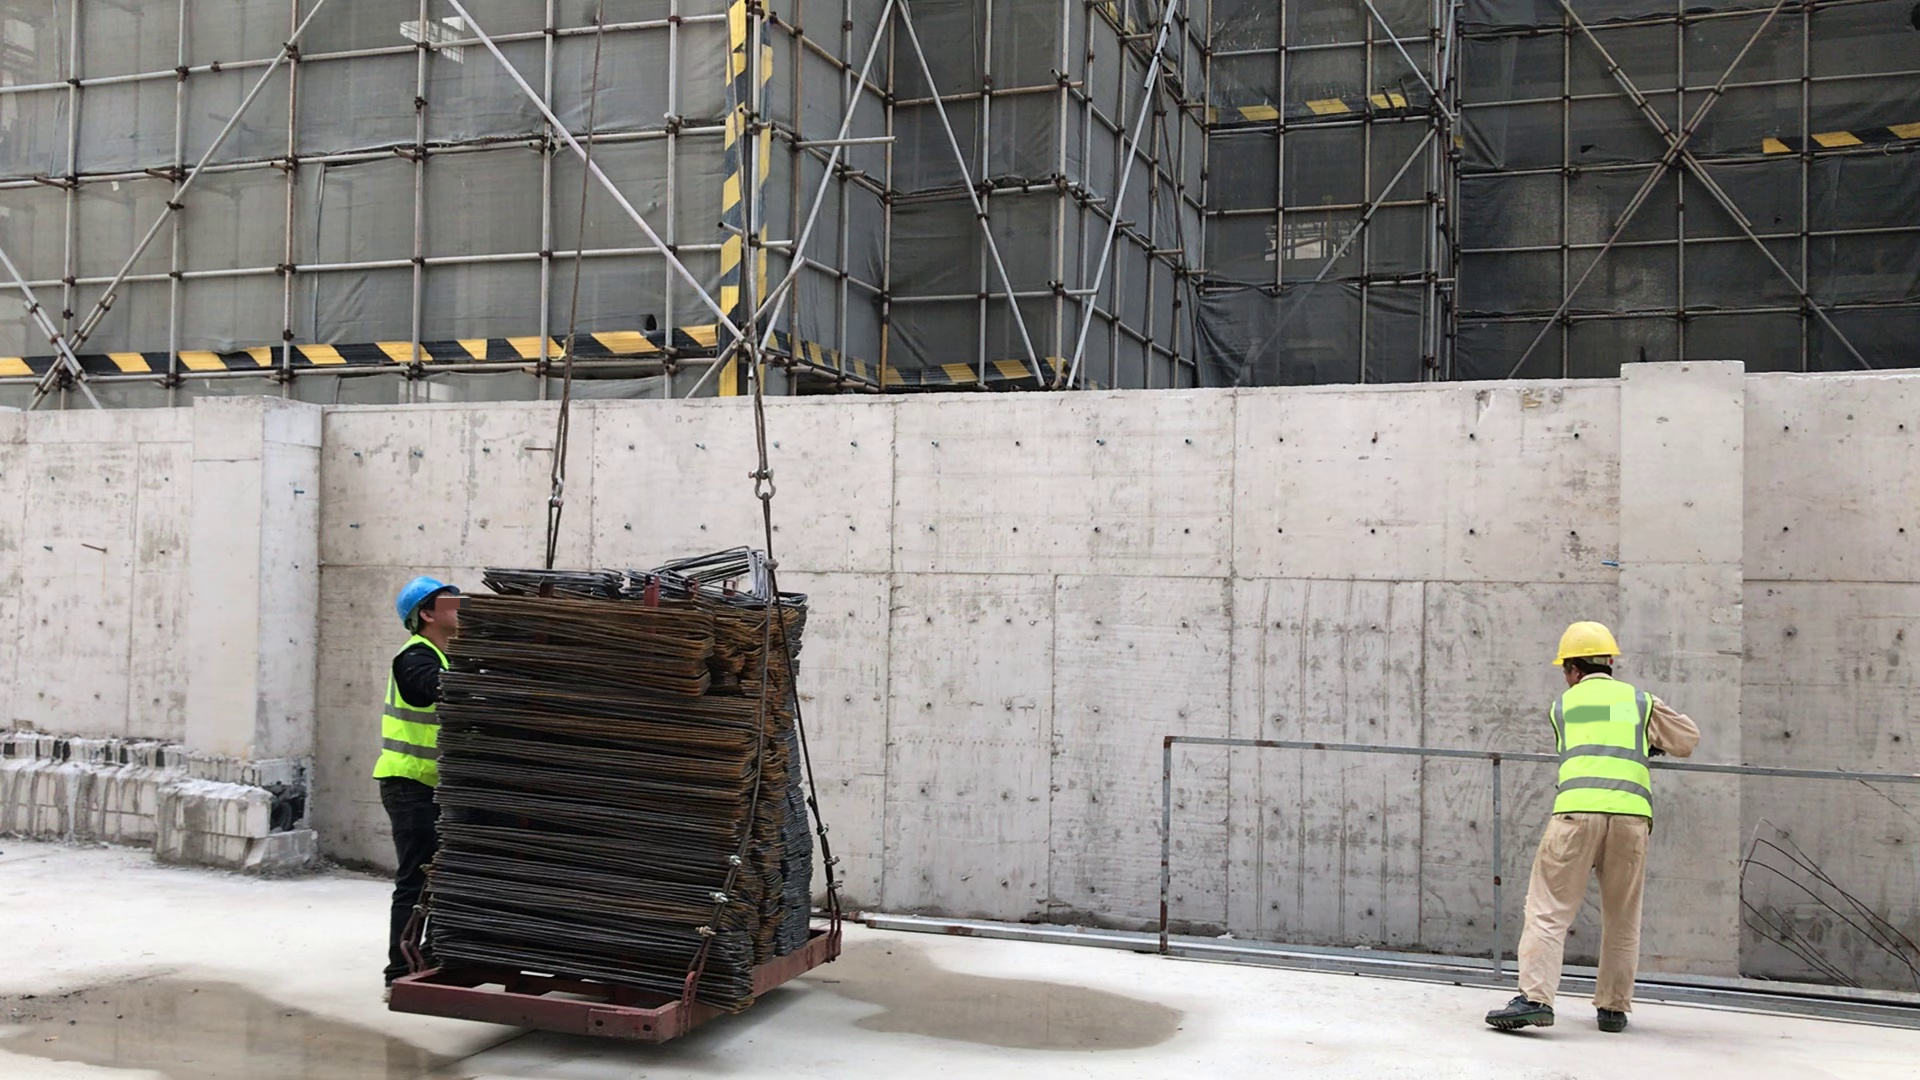helmet: (375, 567, 462, 620), (1548, 618, 1623, 665)
person: (1489, 618, 1693, 1047), (375, 561, 476, 1007)
vest: (1552, 678, 1654, 825), (375, 639, 449, 781)
